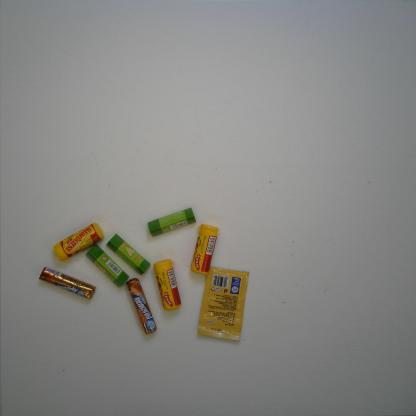Candy: (52, 222, 105, 263), (38, 266, 97, 300), (125, 277, 158, 335), (153, 258, 182, 312), (190, 224, 219, 276)
Seasoner: (198, 266, 250, 342)
Stationery: (85, 244, 130, 288), (105, 233, 151, 276), (147, 206, 197, 238)
